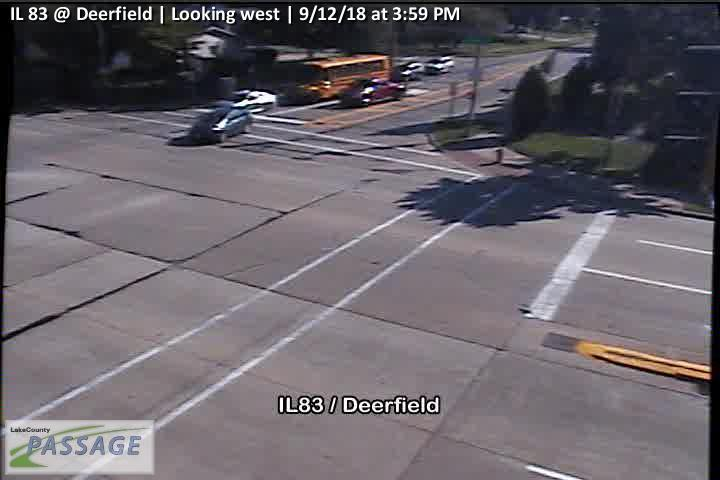Bus: (295, 54, 393, 104)
Sedan: (189, 106, 254, 145), (338, 77, 406, 108), (222, 89, 277, 114)
